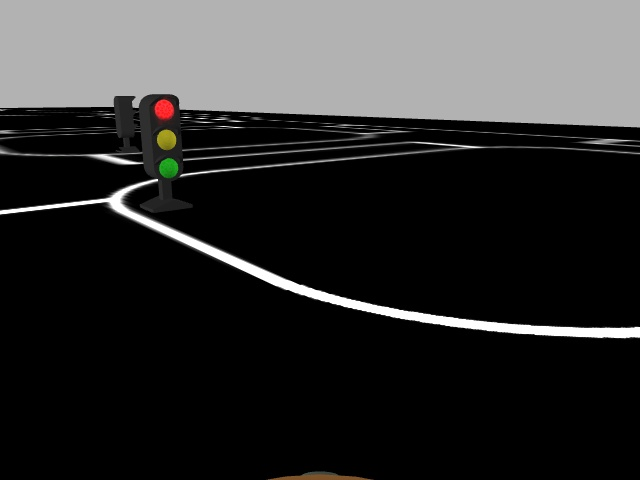red_light: (140, 92, 186, 183)
